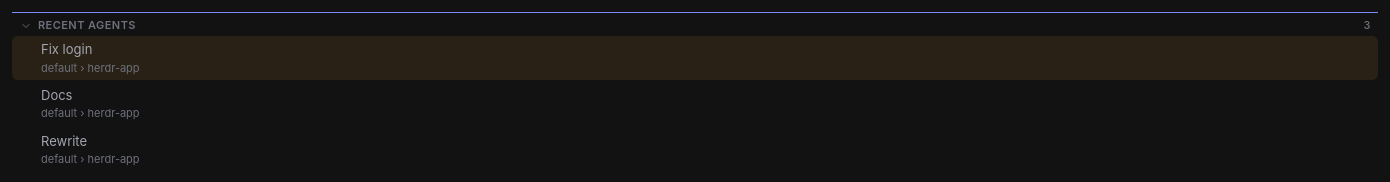
Test: AgentsSection › collapses
Click the button "Recent agents 3": (87, 25) [12,12,1378,35]
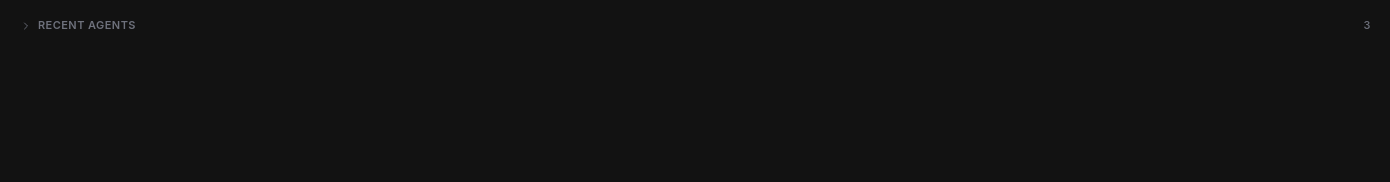
Expected: the button "Fix login" is gone
